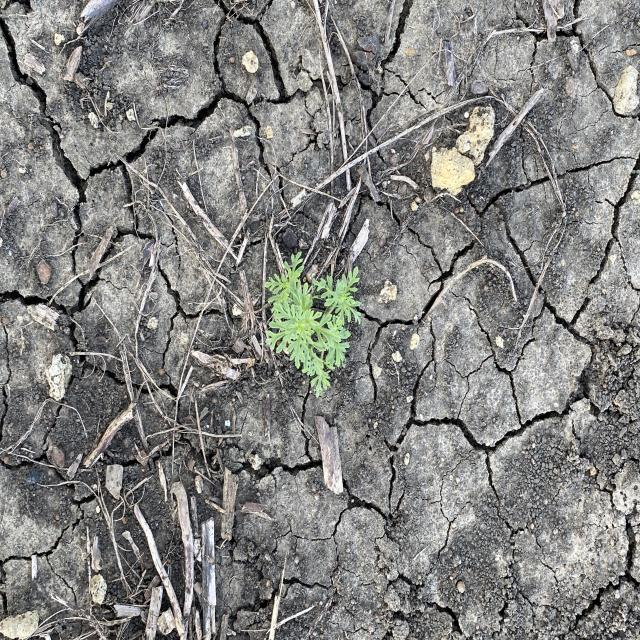Ragweed: (263, 249, 364, 400)
